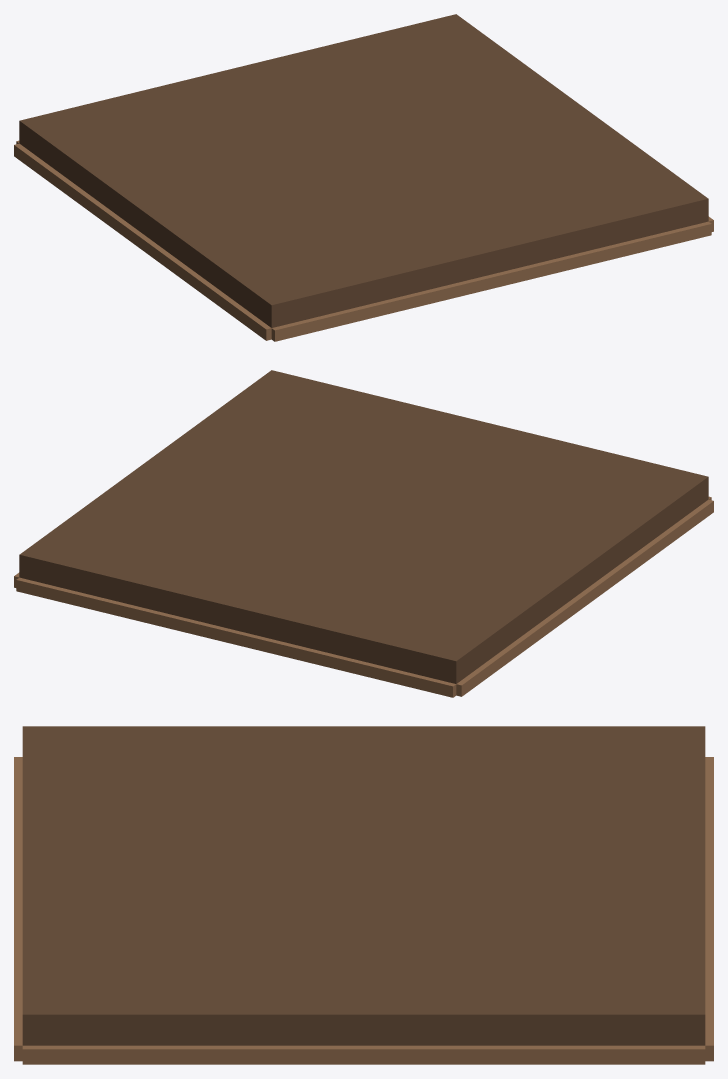
The model's file is ceil_hm_tin.glb.
3 views of the same model, one above another, from view 1: azimuth 30°, elevation 25°; view 2: azimuth 150°, elevation 25°; view 3: azimuth 270°, elevation 25° (orthographic). The views are drawn at different scales.
Parts seen in each view (by area): view 1: ceil_hm_tin; view 2: ceil_hm_tin; view 3: ceil_hm_tin.
Part boxes in pixels (bbox=[...]): ceil_hm_tin: bbox=[14, 14, 713, 341]; ceil_hm_tin: bbox=[14, 370, 713, 697]; ceil_hm_tin: bbox=[14, 726, 713, 1064].
Size of the model in its own units: 4.1 by 0.3 by 4.1.
